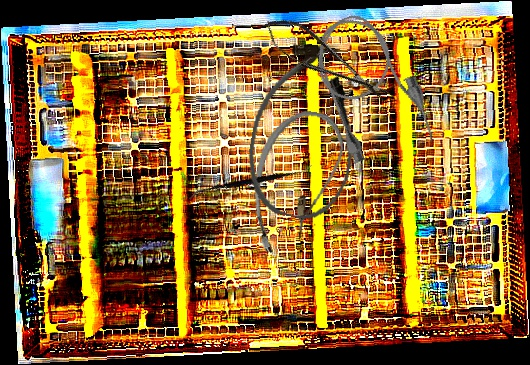Cannula: (299, 1, 443, 174), (239, 36, 370, 226), (242, 103, 351, 263)
Micro Scissor: (257, 7, 395, 115)
Spatula Surgical: (188, 120, 314, 245)
